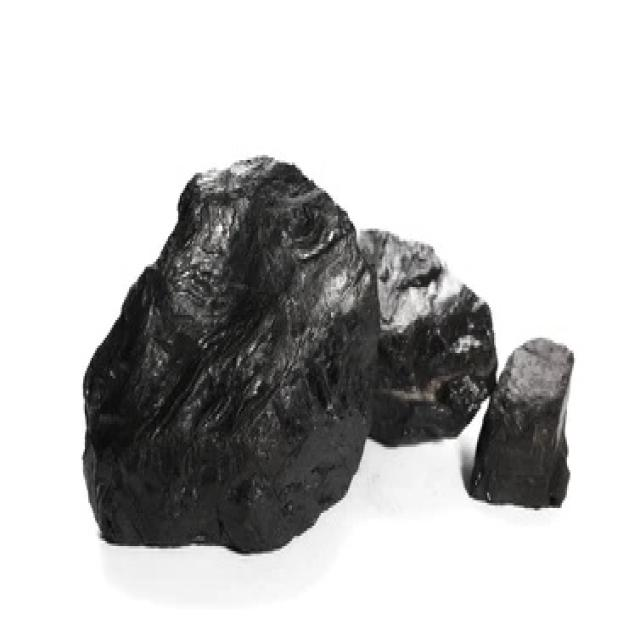Sedimentary: (68, 129, 378, 569), (355, 218, 492, 478), (465, 320, 576, 518)
